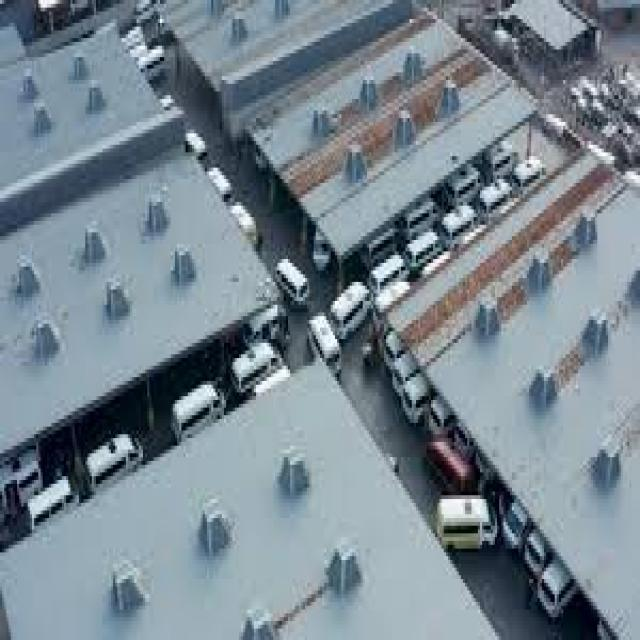MiniBus taxi: (83, 434, 143, 503), (169, 381, 228, 446), (24, 472, 81, 538), (435, 495, 499, 549), (232, 339, 284, 400), (305, 312, 344, 378), (331, 278, 373, 339), (271, 255, 311, 312)
